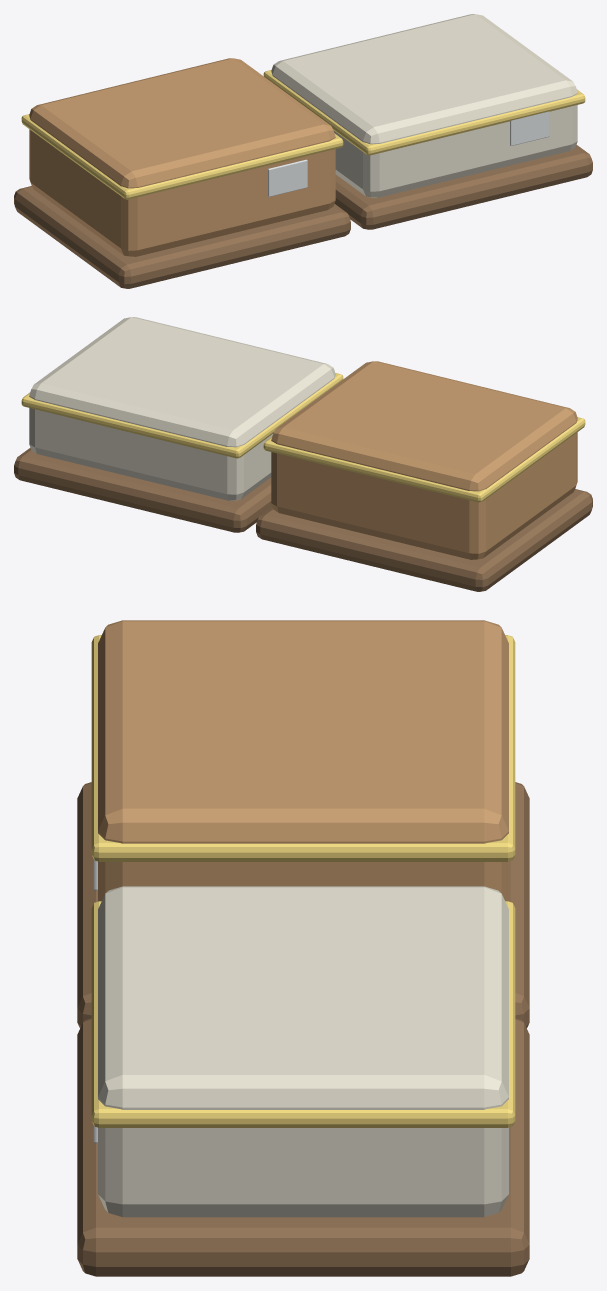
The model's file is decor_cargo_pallet_row.glb.
3 views of the same model, one above another, from view 1: azimuth 30°, elevation 25°; view 2: azimuth 150°, elevation 25°; view 3: azimuth 270°, elevation 25° (orthographic). The views are drawn at different scales.
Parts seen in each view (by area): view 1: DEC_CargoPalletRow__Load_L, DEC_CargoPalletRow__Load_R, DEC_CargoPalletRow__Pallet_L, DEC_CargoPalletRow__Pallet_R, DEC_CargoPalletRow__Wrap_L, DEC_CargoPalletRow__Wrap_R, DEC_CargoPalletRow__Tag_L, DEC_CargoPalletRow__Tag_R; view 2: DEC_CargoPalletRow__Load_L, DEC_CargoPalletRow__Load_R, DEC_CargoPalletRow__Pallet_L, DEC_CargoPalletRow__Pallet_R, DEC_CargoPalletRow__Wrap_L, DEC_CargoPalletRow__Wrap_R; view 3: DEC_CargoPalletRow__Load_R, DEC_CargoPalletRow__Load_L, DEC_CargoPalletRow__Pallet_R, DEC_CargoPalletRow__Wrap_L, DEC_CargoPalletRow__Wrap_R, DEC_CargoPalletRow__Pallet_L.
Part boxes in pixels (x1,y1,x2,y2): DEC_CargoPalletRow__Load_L: (29, 58, 335, 256); DEC_CargoPalletRow__Load_R: (271, 14, 577, 197); DEC_CargoPalletRow__Pallet_L: (14, 186, 350, 288); DEC_CargoPalletRow__Pallet_R: (334, 145, 592, 229); DEC_CargoPalletRow__Wrap_L: (21, 114, 343, 199); DEC_CargoPalletRow__Wrap_R: (263, 70, 585, 155); DEC_CargoPalletRow__Tag_L: (268, 159, 307, 196); DEC_CargoPalletRow__Tag_R: (510, 111, 549, 145); DEC_CargoPalletRow__Load_L: (271, 361, 577, 559); DEC_CargoPalletRow__Load_R: (29, 317, 335, 500); DEC_CargoPalletRow__Pallet_L: (256, 489, 592, 591); DEC_CargoPalletRow__Pallet_R: (14, 448, 272, 532); DEC_CargoPalletRow__Wrap_L: (263, 417, 585, 502); DEC_CargoPalletRow__Wrap_R: (21, 373, 343, 458); DEC_CargoPalletRow__Load_R: (98, 886, 508, 1217); DEC_CargoPalletRow__Load_L: (98, 620, 508, 901); DEC_CargoPalletRow__Pallet_R: (77, 1018, 529, 1276); DEC_CargoPalletRow__Wrap_L: (91, 635, 515, 861); DEC_CargoPalletRow__Wrap_R: (91, 901, 515, 1127); DEC_CargoPalletRow__Pallet_L: (77, 782, 529, 1028).
Bounding box in the file's own units: 2.66 × 0.59 × 1.1.
